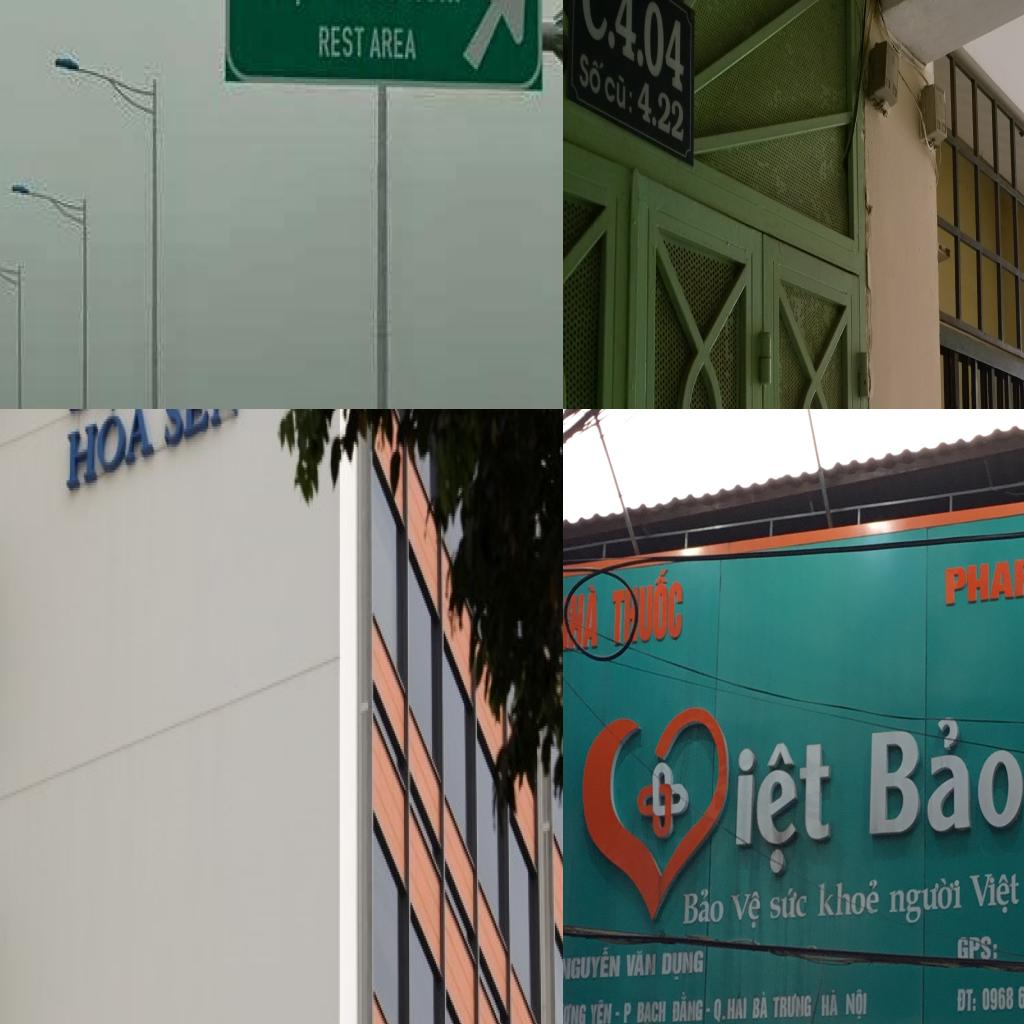text: (866, 701, 1024, 838), (728, 727, 840, 876), (63, 409, 156, 498), (612, 562, 688, 652), (943, 532, 1024, 613), (641, 0, 687, 99), (887, 874, 966, 928), (968, 866, 1023, 921), (816, 875, 882, 920), (563, 582, 600, 653), (563, 943, 621, 984), (315, 20, 367, 63), (680, 884, 727, 931), (655, 87, 686, 146), (575, 45, 607, 101), (768, 883, 810, 923), (660, 946, 706, 982), (981, 977, 1024, 1015), (728, 884, 762, 932), (954, 933, 1002, 967), (614, 0, 639, 65), (578, 0, 612, 47), (772, 990, 815, 1020), (602, 70, 630, 114), (670, 991, 706, 1024), (625, 947, 658, 981), (842, 985, 870, 1023), (635, 994, 667, 1024), (634, 78, 653, 126), (953, 983, 979, 1015), (821, 988, 842, 1019), (751, 989, 771, 1021), (590, 998, 614, 1024), (728, 991, 748, 1021), (563, 999, 586, 1024), (713, 991, 727, 1024), (622, 995, 633, 1024), (607, 25, 616, 53), (626, 88, 634, 116), (636, 49, 644, 65), (651, 112, 658, 130), (706, 1003, 711, 1015), (616, 1009, 622, 1018)
